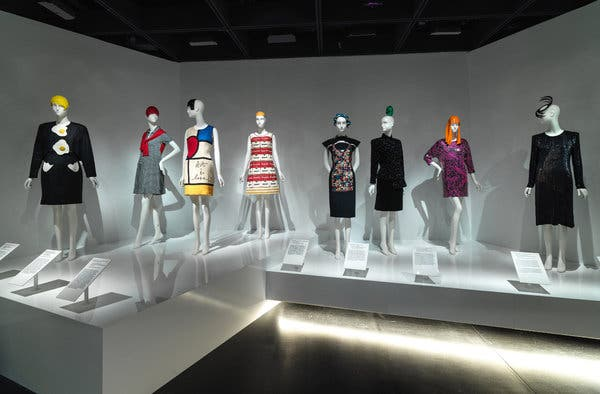person-like: (21, 92, 102, 262), (521, 96, 591, 275), (421, 112, 485, 257), (129, 102, 183, 250), (178, 96, 227, 258), (236, 108, 288, 242), (365, 104, 409, 258), (320, 110, 363, 261)
